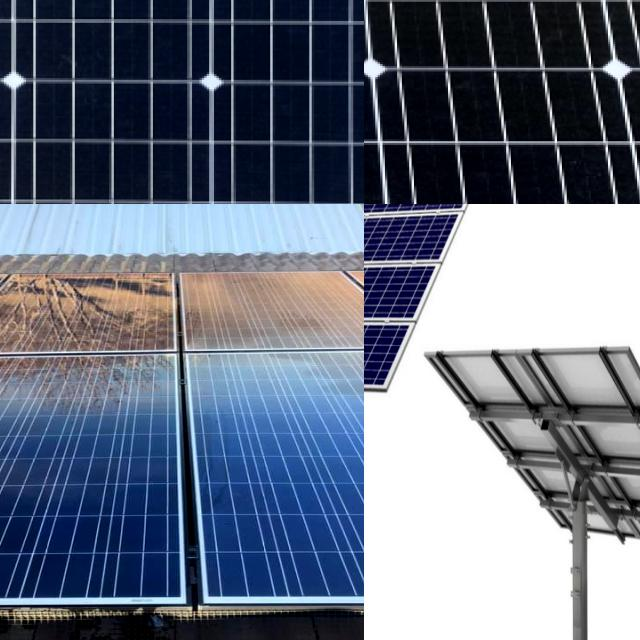crack: (0, 0, 364, 204), (0, 341, 246, 640), (138, 330, 364, 640), (364, 0, 640, 204), (364, 204, 553, 417), (0, 269, 224, 365), (157, 265, 364, 366)
